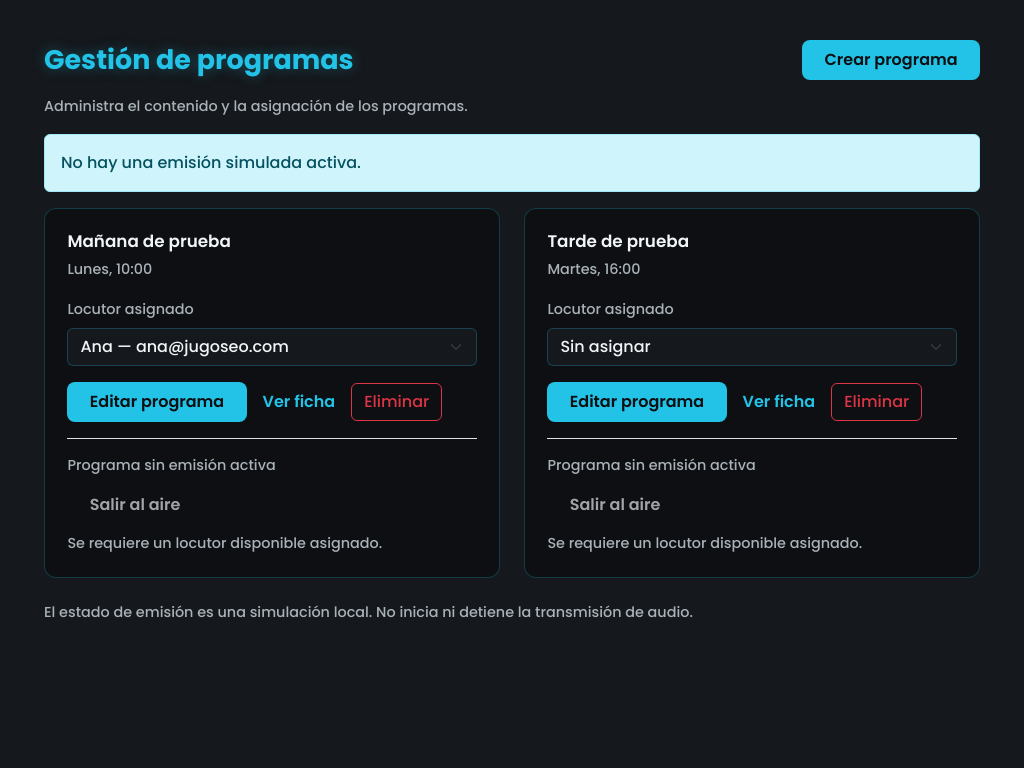
PanelProgramas › elimina el programa después de confirmar
Click the button "Eliminar" below "Lunes, 10:00": (397, 402) [351,383,442,421]
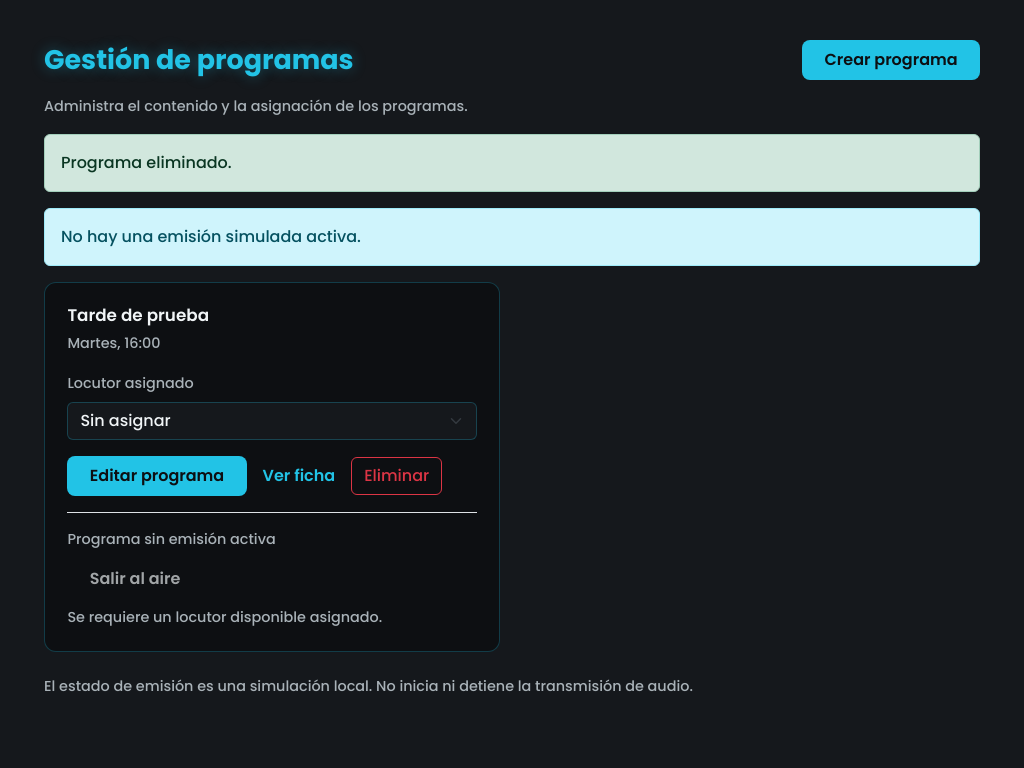
Expected: the heading "Mañana de prueba" is gone
